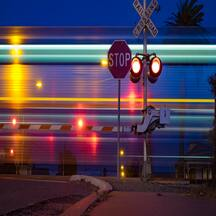Circle: (108, 39, 131, 79)
